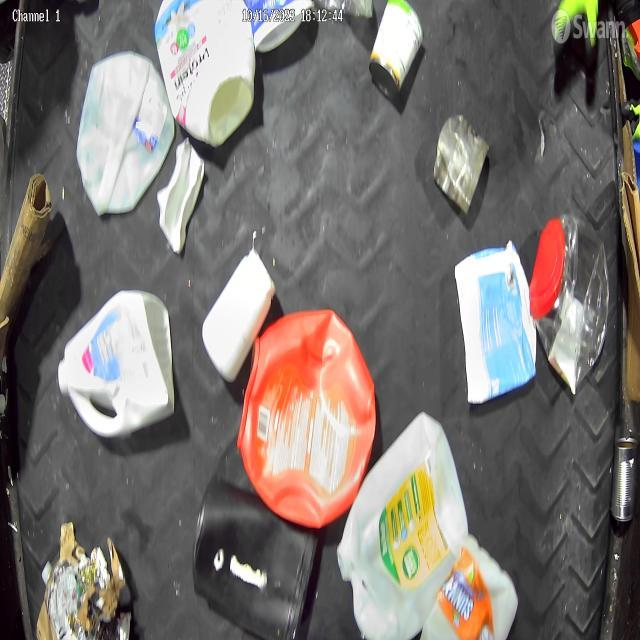can: (368, 0, 424, 100), (610, 436, 640, 522)
milk_jug: (336, 410, 469, 640), (58, 289, 176, 439), (75, 52, 175, 214), (154, 0, 255, 147), (420, 534, 520, 640)
non_white_jug: (236, 308, 376, 528), (192, 476, 322, 640)
